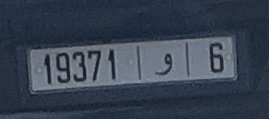1: (106, 47, 119, 84), (41, 51, 54, 86)
3: (71, 48, 87, 84)
6: (207, 40, 227, 76)
7: (87, 48, 105, 84)
9: (54, 50, 71, 84)
waw: (149, 48, 177, 78)
